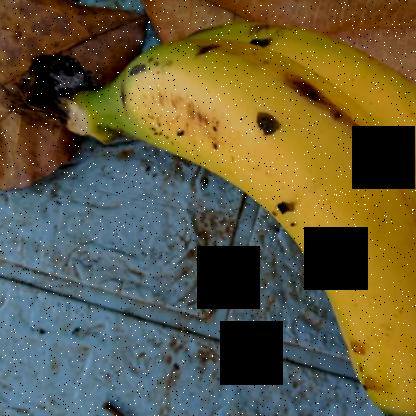ripe: (132, 51, 415, 415)
